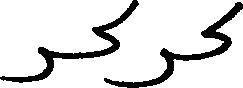X: (93, 0, 138, 87), (202, 0, 242, 63), (0, 42, 53, 87), (140, 43, 173, 87)
